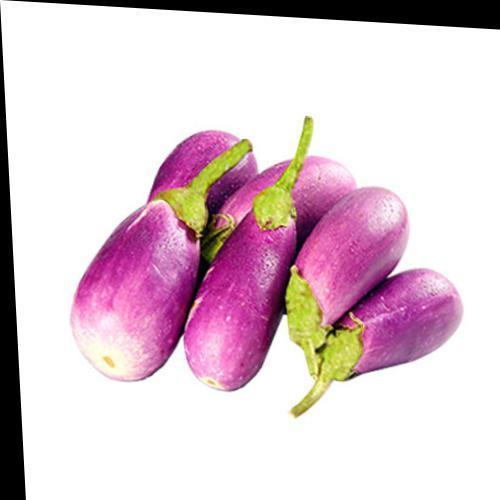eggplant: (68, 119, 444, 402)
